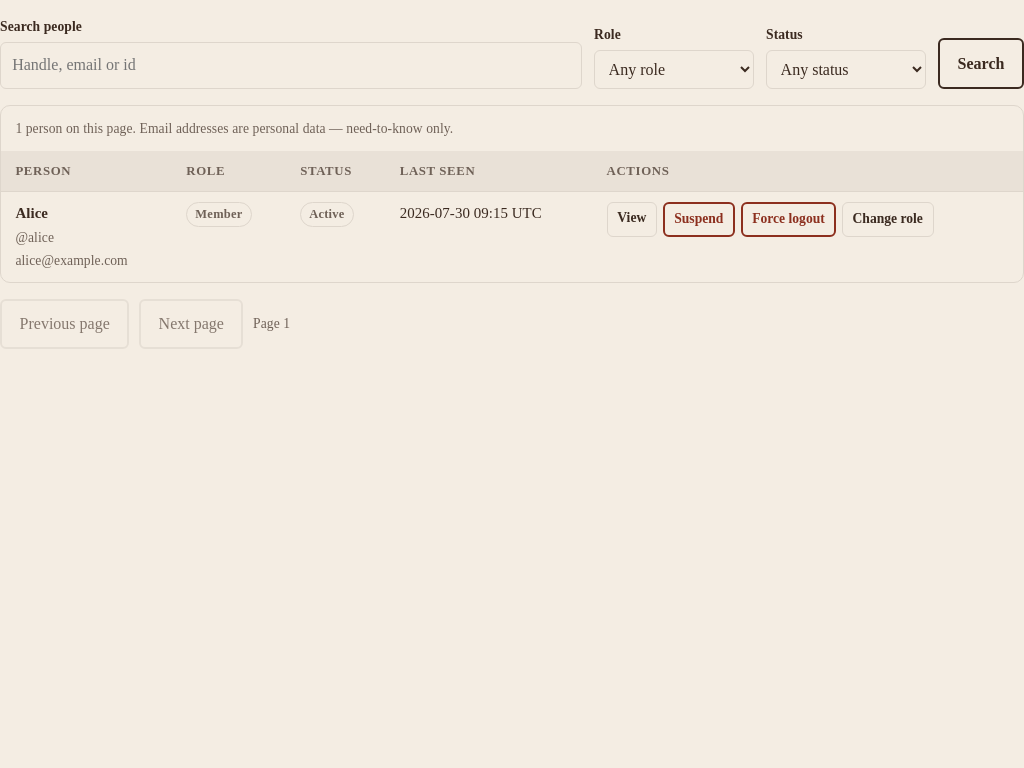
Test: destructive confirmations › surfaces mfa_required from a role change as an enrol prompt, not an error
Check: the link named "view alice" is shown, box x1=607 y1=202 x2=657 y2=237
Click the button named "change role alice" at (888, 219), box x1=842 y1=202 x2=934 y2=237
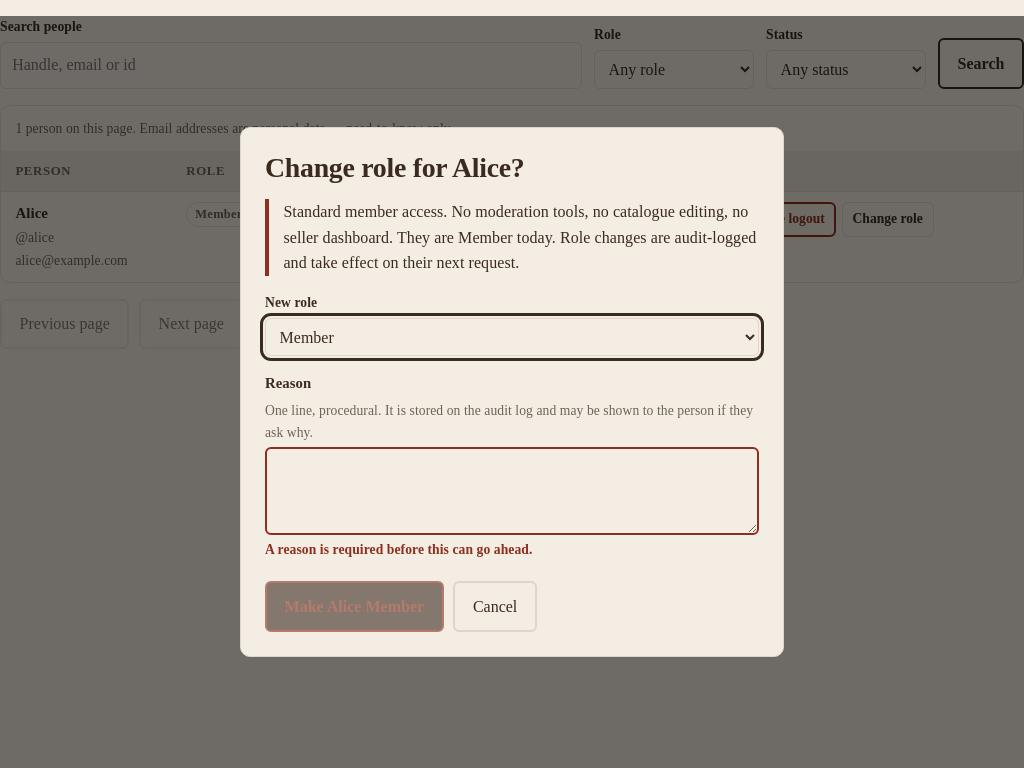
Select "Moderator" in the dropdown labelled "New role" at (512, 337), box x1=265 y1=318 x2=759 y2=356
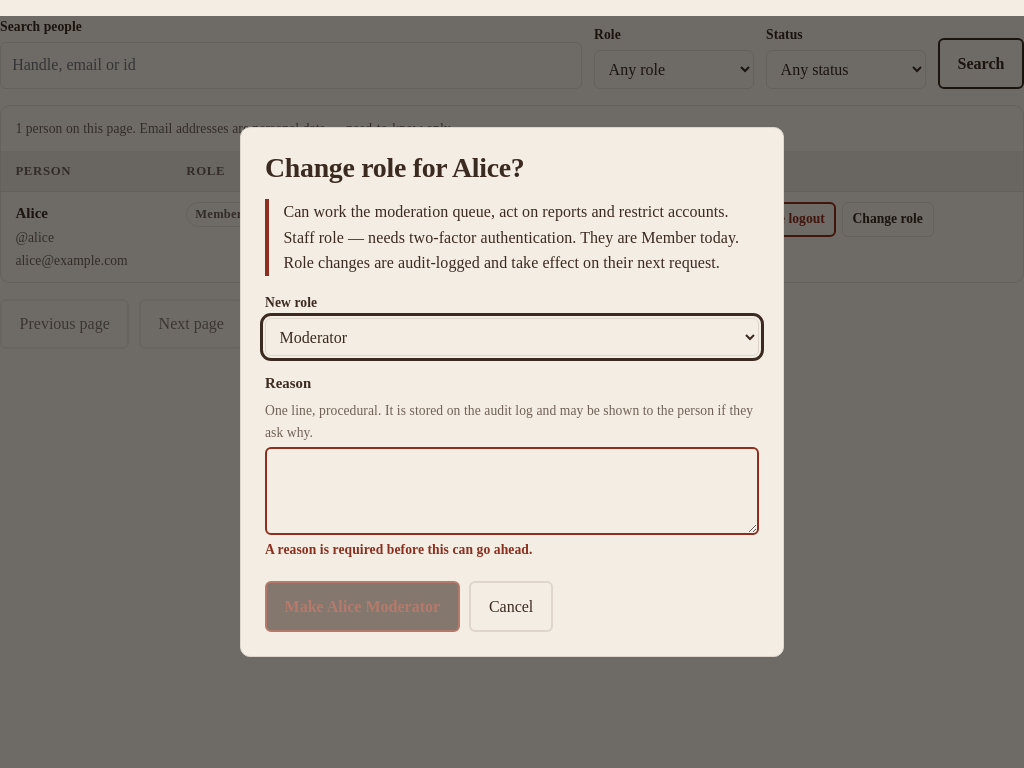
Type "Joining the mod team" into the text box labelled "Reason" at (512, 491), box x1=265 y1=447 x2=759 y2=535
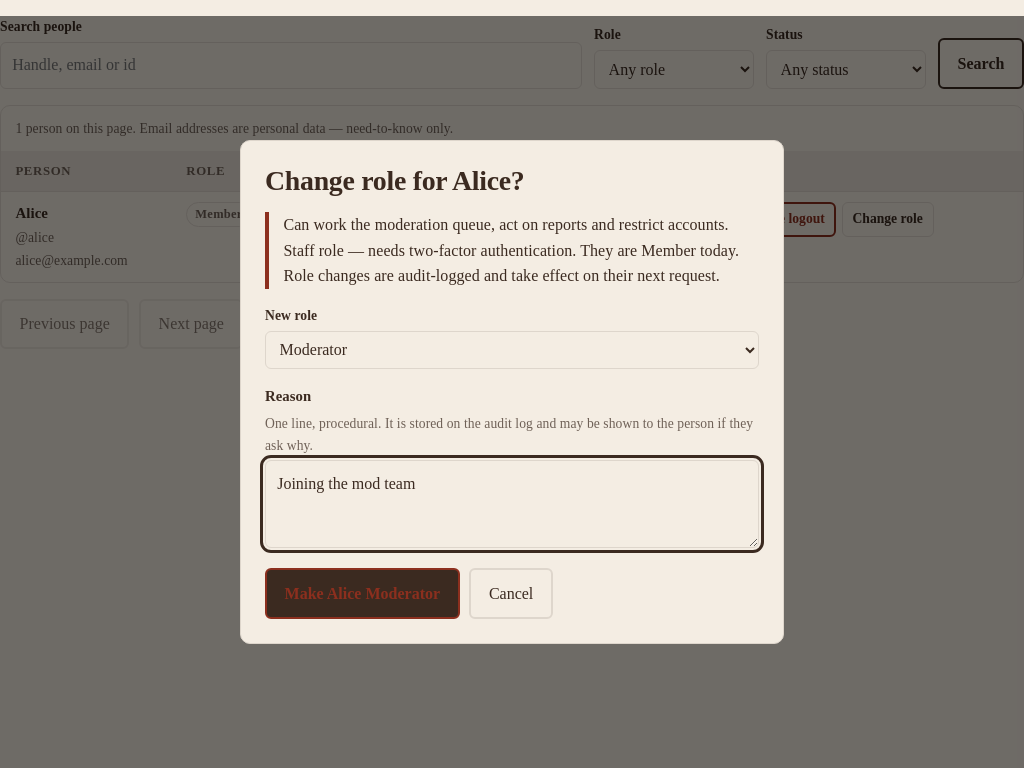
Click the button "Make Alice Moderator" at (362, 594), box x1=265 y1=568 x2=460 y2=619
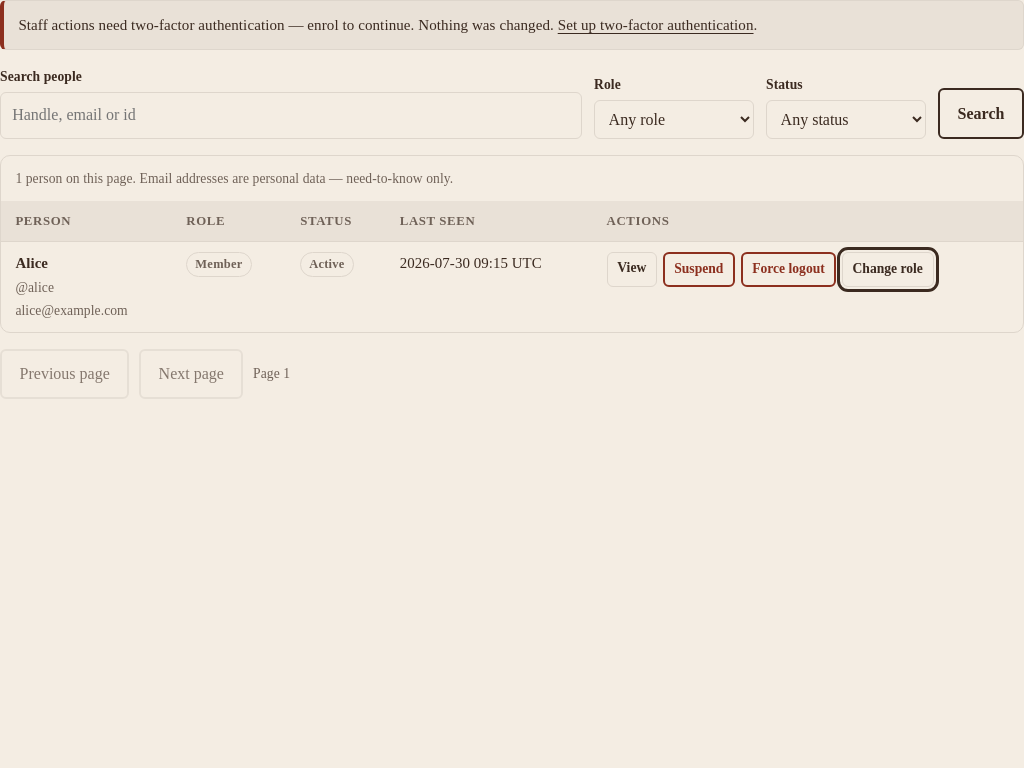
Check: the text "nothing was changed" is shown, box x1=18 y1=17 x2=554 y2=33
Check: the dialog is gone
